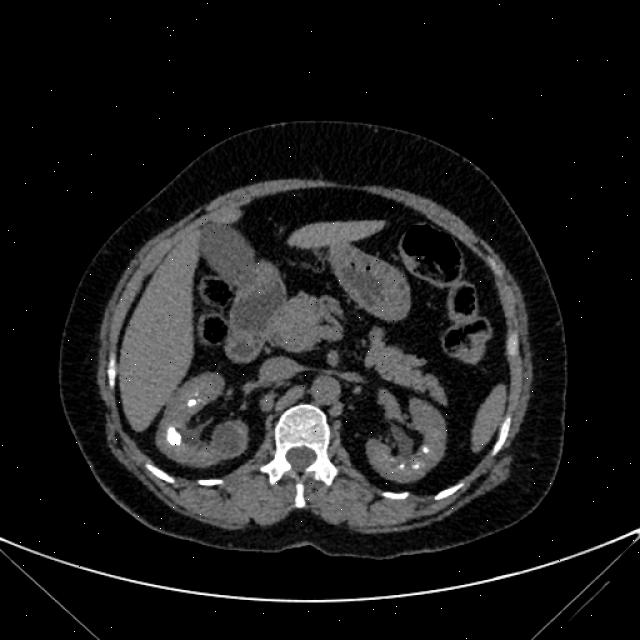kidneystone: (166, 426, 181, 446), (188, 399, 198, 407), (411, 462, 419, 471), (422, 446, 429, 453), (399, 462, 403, 469)
